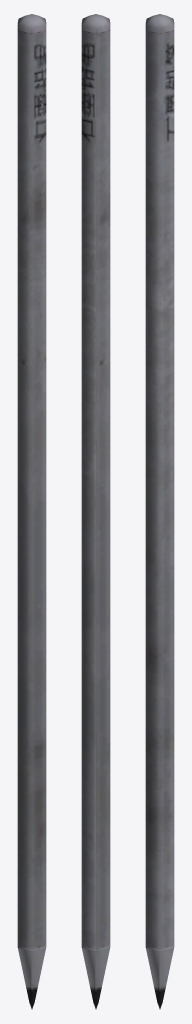
Rendered from pen_graphite.DAE.
The picture shows the model from 3 angles, left to right: view 1: azimuth 90°, elevation 25°; view 2: azimuth 150°, elevation 25°; view 3: azimuth 270°, elevation 25°; orthographic projection.
Parts seen in each view (by area): view 1: pen_graphite; view 2: pen_graphite; view 3: pen_graphite.
Boxes of the visible parts, x1,y1,x2,y2 form: pen_graphite: (17,14,46,1009); pen_graphite: (81,14,110,1009); pen_graphite: (145,14,174,1009).
Size of the model in its own units: 0.6018 by 19.95 by 0.5212.
